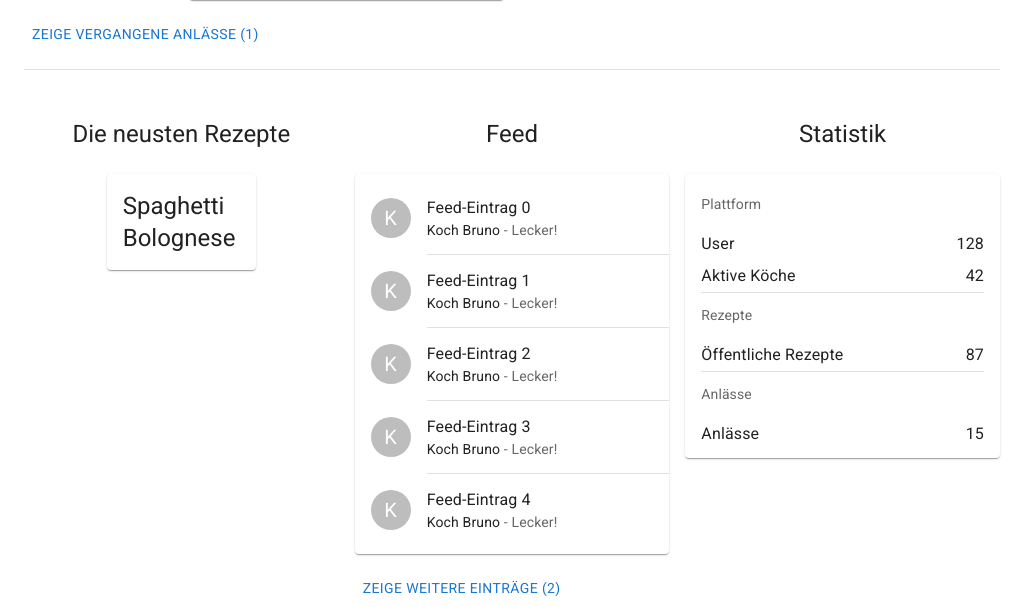
Test: HomePage › Feed-Bereich › zeigt nur 5 Eintraege und einen 'Zeige weitere Eintraege'-Button bei mehr als 5
(page scrolled)
expect the text "Feed-Eintrag 0" is shown: met, box [427,198,531,217]
expect the text "Feed-Eintrag 4" is shown: met, box [427,490,531,509]
Step 1. Click the button "Zeige weitere Einträge (2)" → x=462, y=589, box [355,570,569,606]
(page scrolled)
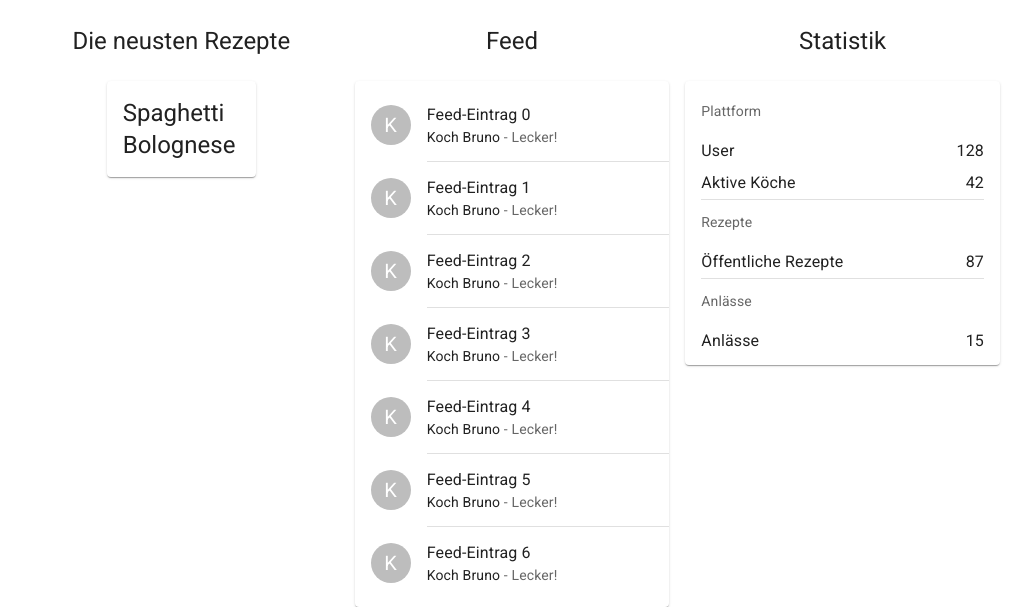
expect the text "Feed-Eintrag 5" is shown: met, box [427,470,531,489]
expect the text "Feed-Eintrag 6" is shown: met, box [427,543,531,562]
expect the button "Zeige weitere Einträge" is gone: met
